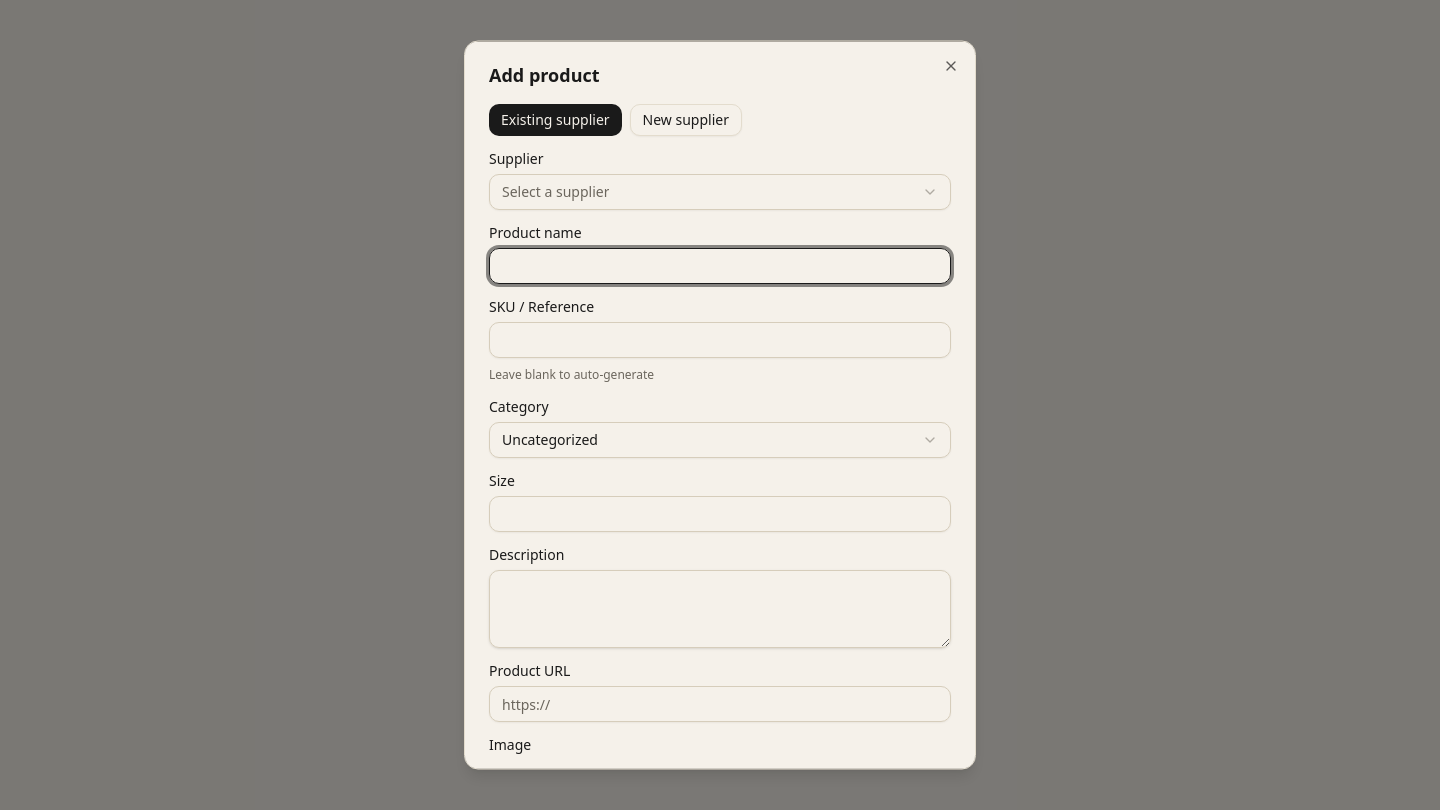
Test case: ProductCreateDialog › switches to new-supplier mode when New button clicked
Click the button "New supplier". click: click(686, 120)
box: [630,104,742,136]
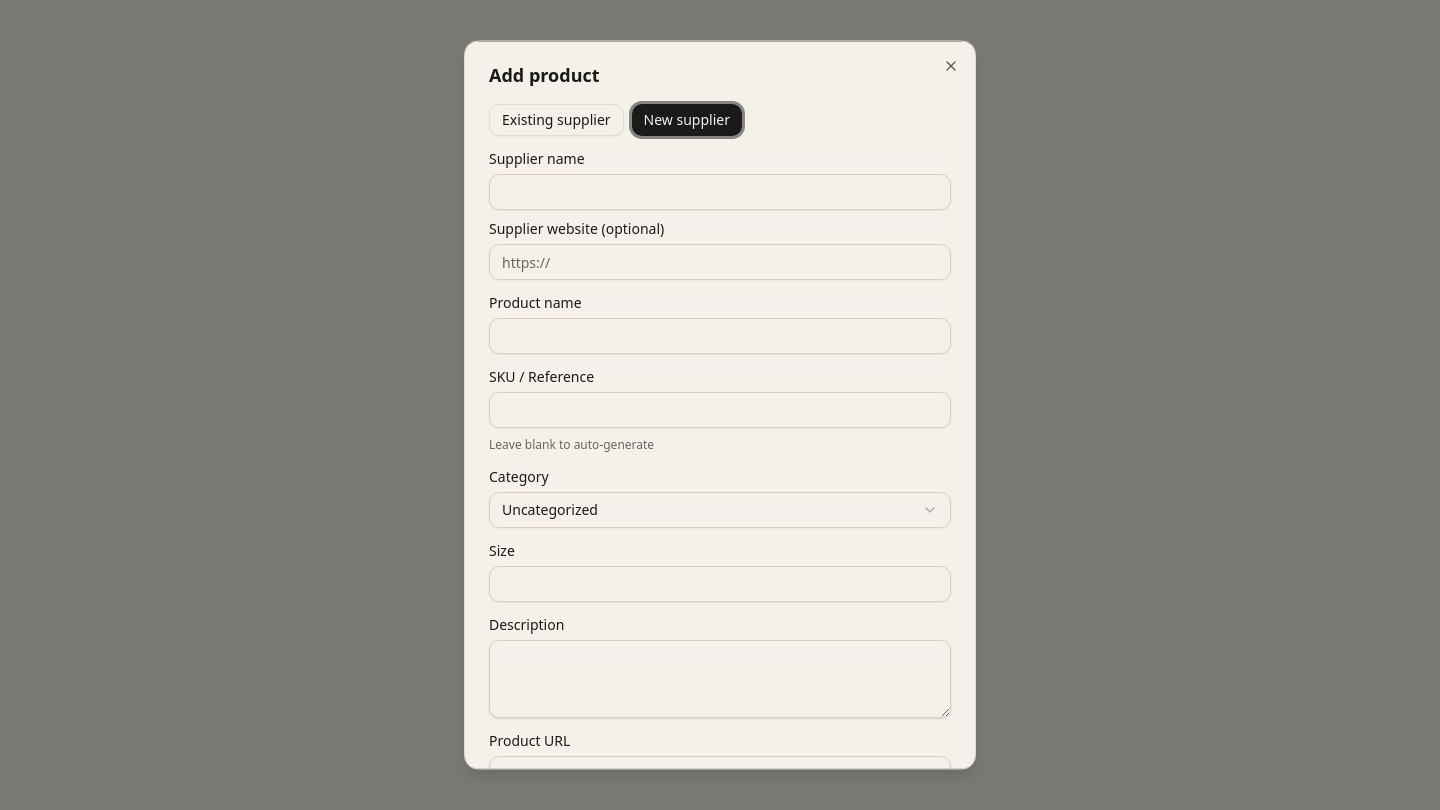
expect the field labelled "Supplier name" is shown: met, box [489,174,951,210]
